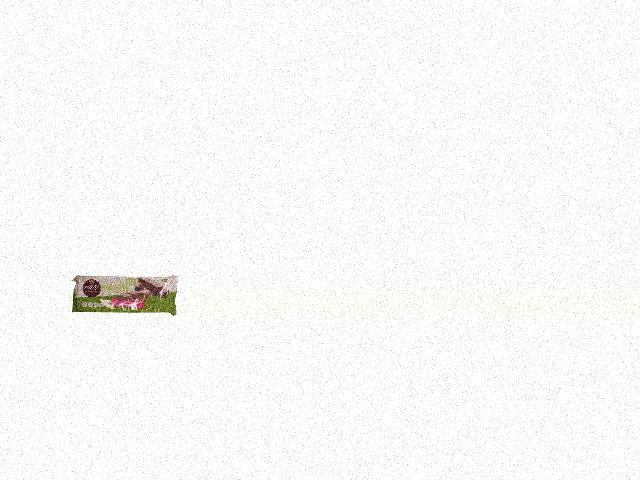chocolate: (68, 271, 177, 314)
